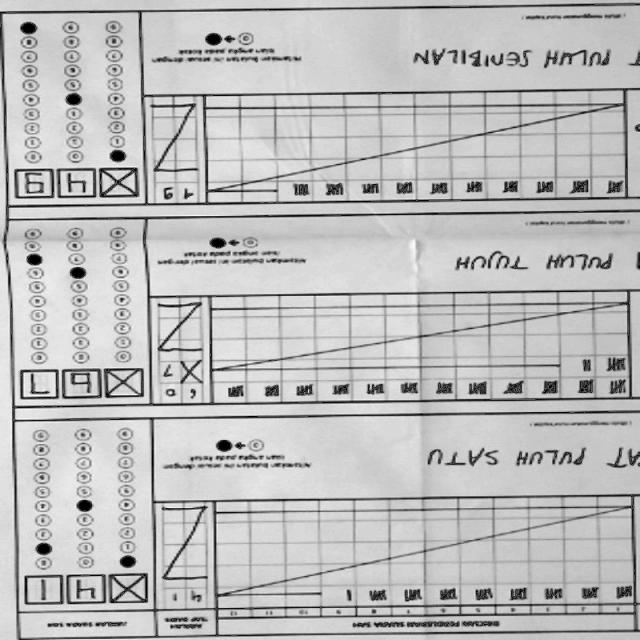Suara: (24, 162, 142, 200), (21, 371, 149, 406), (25, 575, 156, 609)
